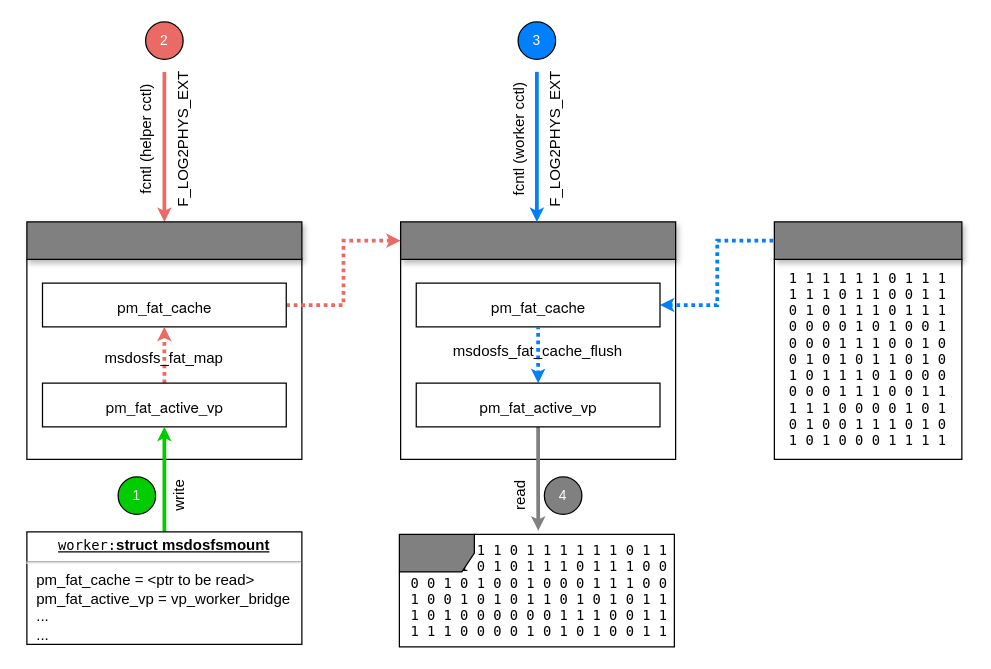
Some shapes in this 991 by 669 pixel diagram are drawn without their labels. The shapes that lost their labels are listed below. From the top down, each one's centre as x and y in pixels, then its label:
At (165,242): "Helper".
At (538,242): "Worker".
At (868,242): "Kernel memory".
At (536,590): "data".
